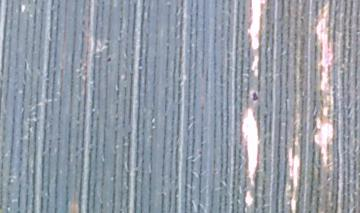tarspot: (250, 89, 261, 103), (105, 56, 113, 64)
